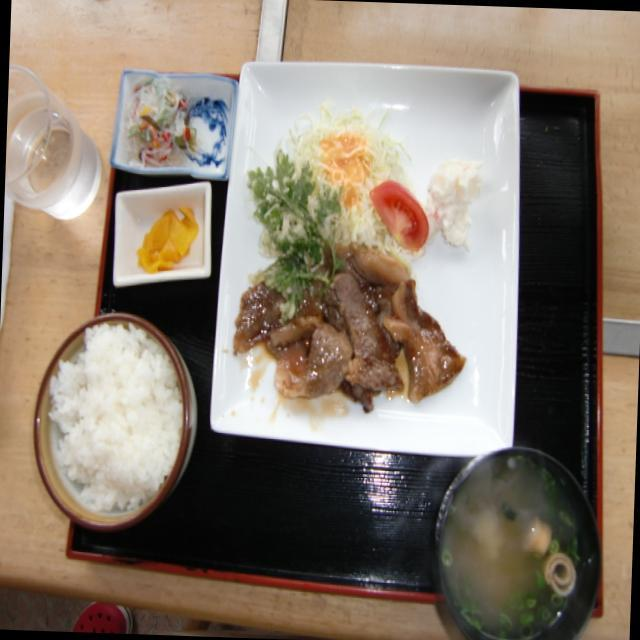Rice: (44, 322, 175, 506)
